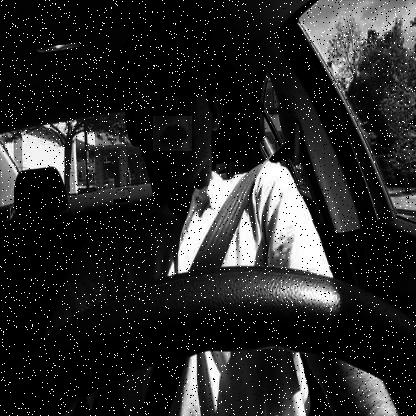seatbelt: (108, 4, 306, 416)
